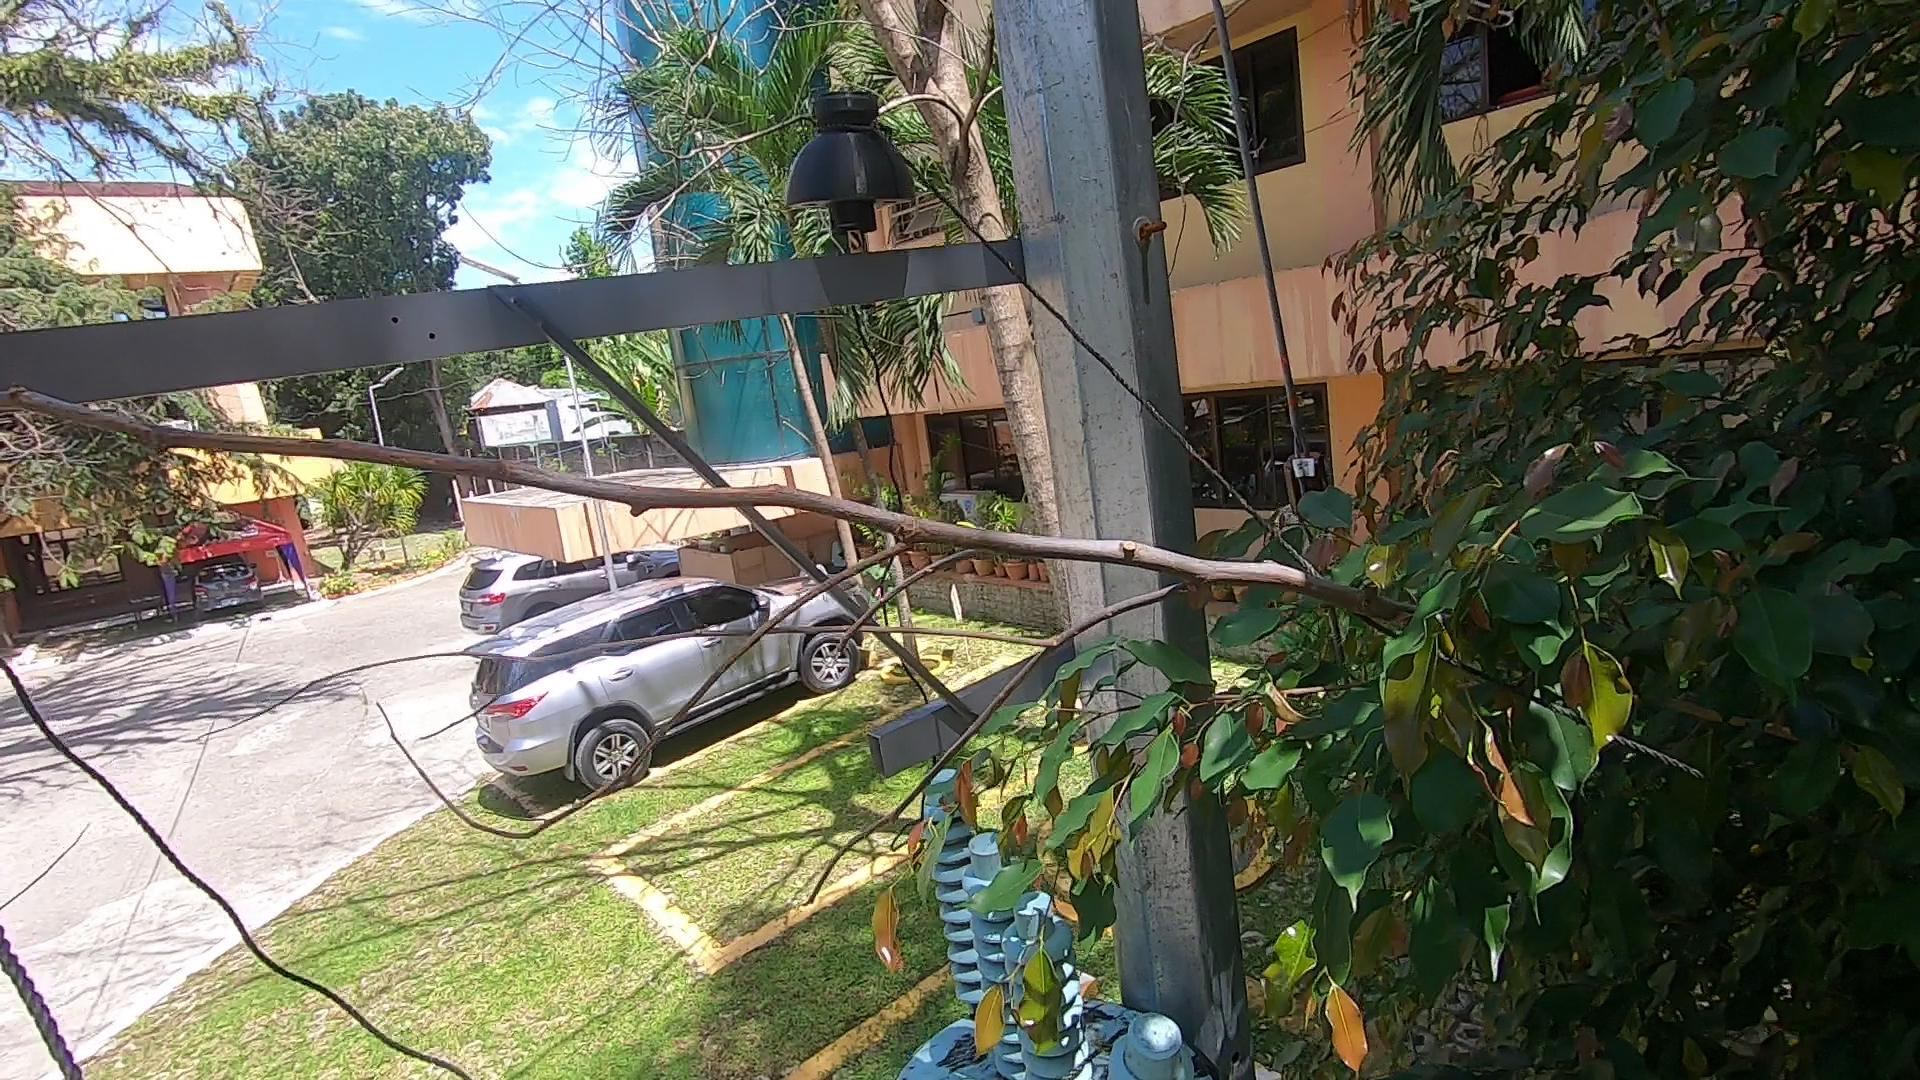tree branch: (1, 261, 1663, 924)
